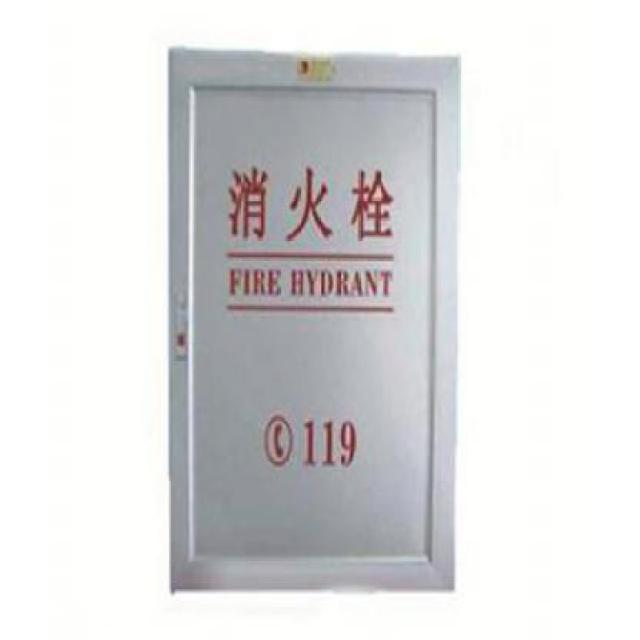firehydrant: (165, 43, 462, 599)
